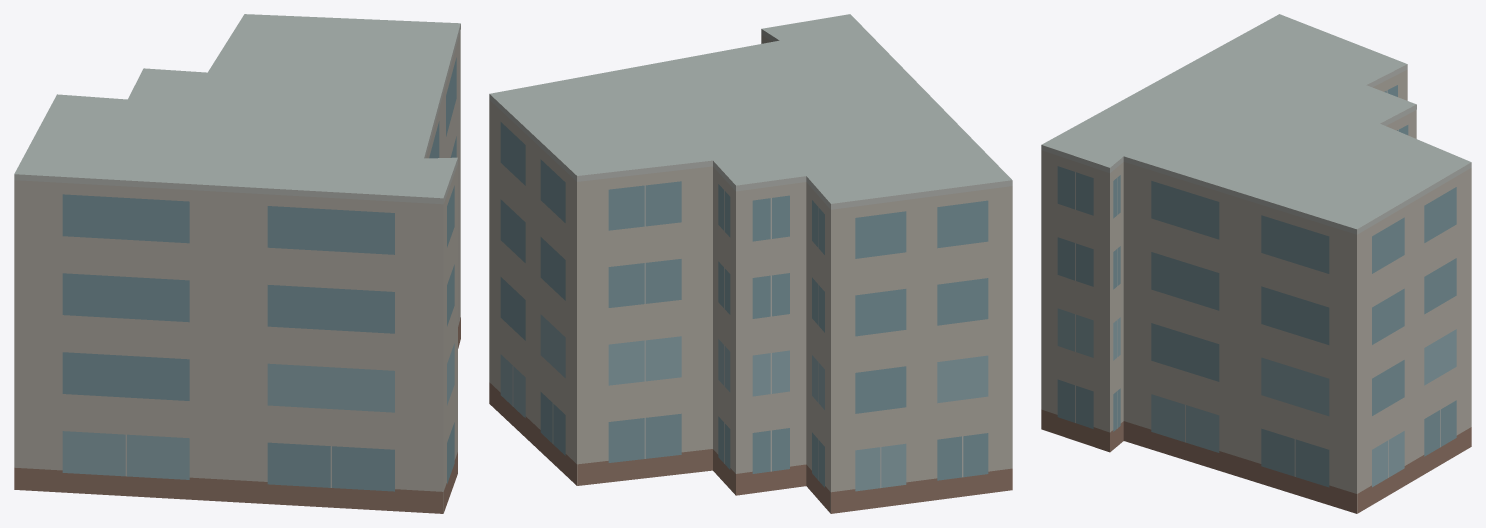
Rendered from survey-upis-32855405.glb.
3 views of the same model, side by side, from view 1: azimuth 30°, elevation 25°; view 2: azimuth 150°, elevation 25°; view 3: azimuth 270°, elevation 25° (orthographic). The views are drawn at different scales.
Visible parts, largest first — view 1: survey-upis-32855405.tmp; view 2: survey-upis-32855405.tmp; view 3: survey-upis-32855405.tmp.
Boxes of the visible parts, x1,y1,x2,y2 form: survey-upis-32855405.tmp: (14,14,460,513); survey-upis-32855405.tmp: (489,14,1012,513); survey-upis-32855405.tmp: (1041,14,1471,513).
Size of the model in its own units: 20.95 by 12.9 by 17.69.
